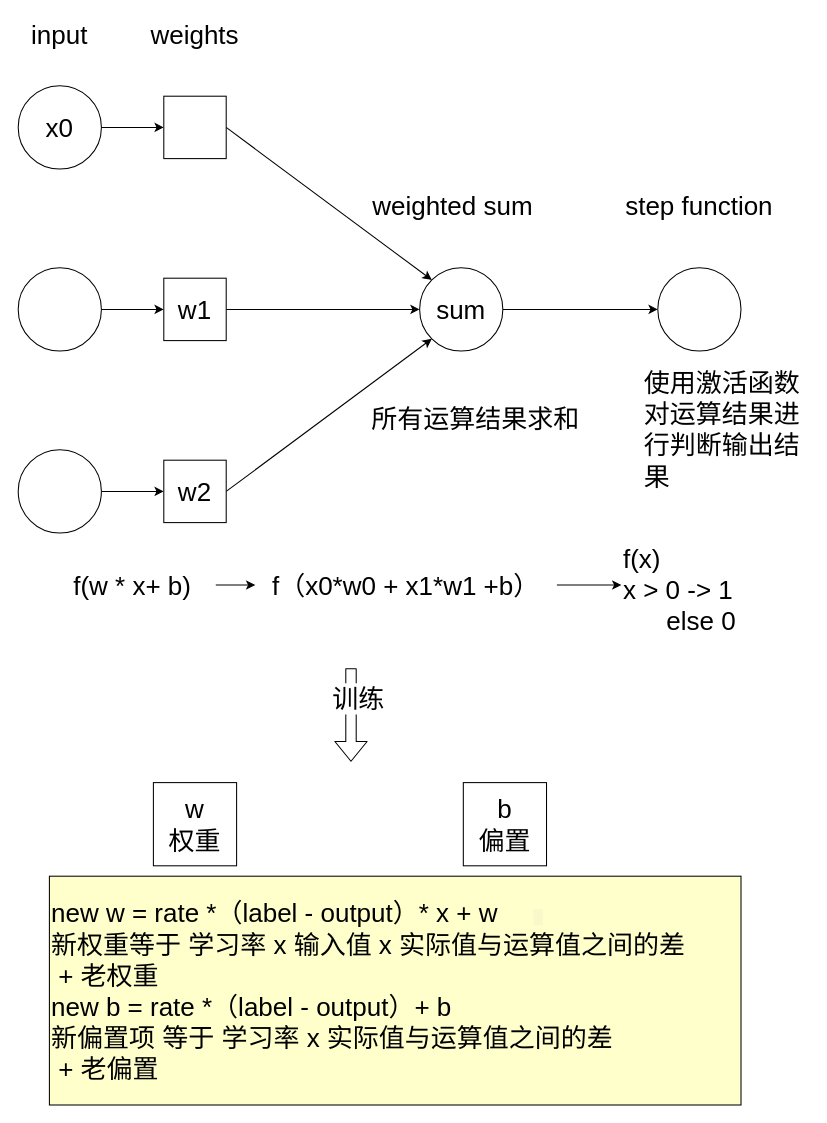
The diagram is 827 pixels wide and 1123 high, and some of its shapes have lost their labels. Each missing label, with the centre of its shape:
step: (699,309)
w0: (194,127)
x1: (59,309)
x2: (59,491)
